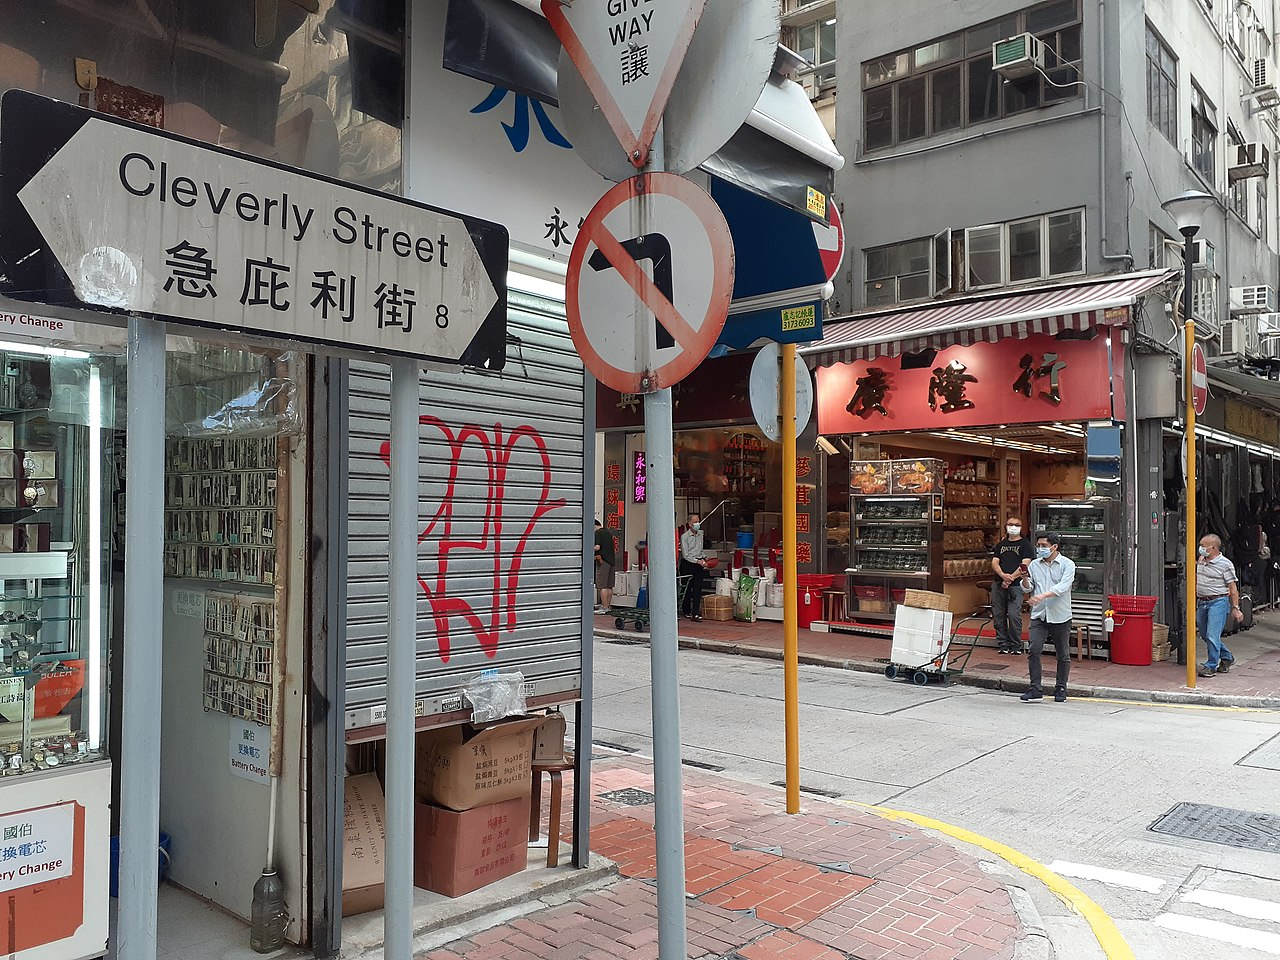Give Way: (539, 0, 737, 168)
No Turn Left: (555, 172, 725, 398)
